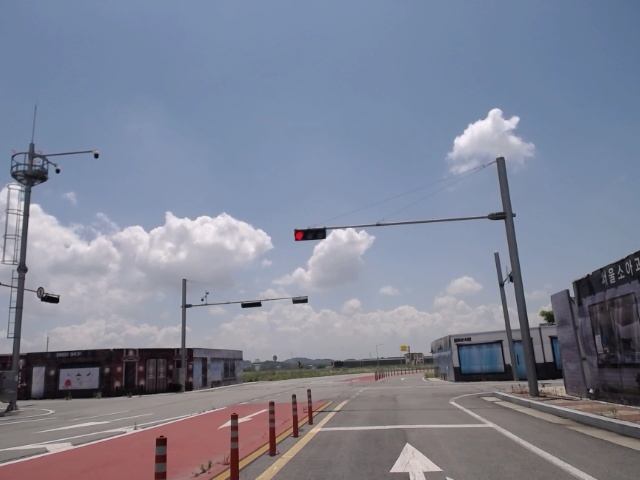red_3: (294, 226, 327, 242)
